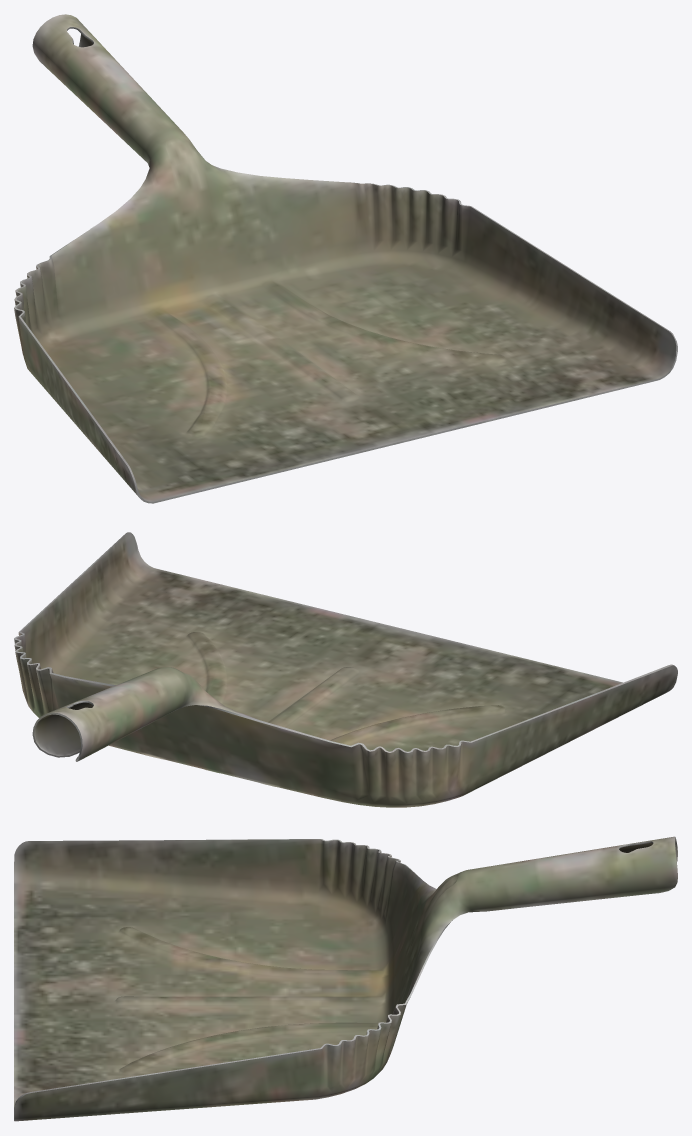
File: dustpan.glb
The picture shows the model from 3 angles, top to bottom: view 1: azimuth 30°, elevation 25°; view 2: azimuth 150°, elevation 25°; view 3: azimuth 270°, elevation 25°; orthographic projection. The views are drawn at different scales.
Parts seen in each view (by area): view 1: dustpan; view 2: dustpan; view 3: dustpan.
Boxes of the visible parts, x1=… form: dustpan: x1=14, y1=14, x2=677, y2=503; dustpan: x1=14, y1=532, x2=677, y2=807; dustpan: x1=14, y1=836, x2=677, y2=1121.
Bounding box in the file's own units: 0.332 × 0.1003 × 0.368.
Materials: 1 (1 with a texture image).
